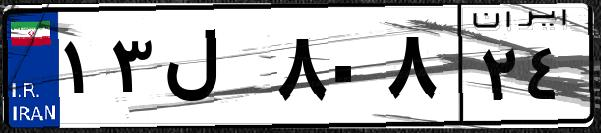0: (330, 28, 385, 110)
1: (57, 26, 110, 100)
2: (475, 38, 525, 113)
3: (110, 28, 158, 98)
4: (525, 38, 570, 115)
8: (270, 28, 330, 110), (385, 28, 445, 110)
ل: (158, 20, 270, 120)
